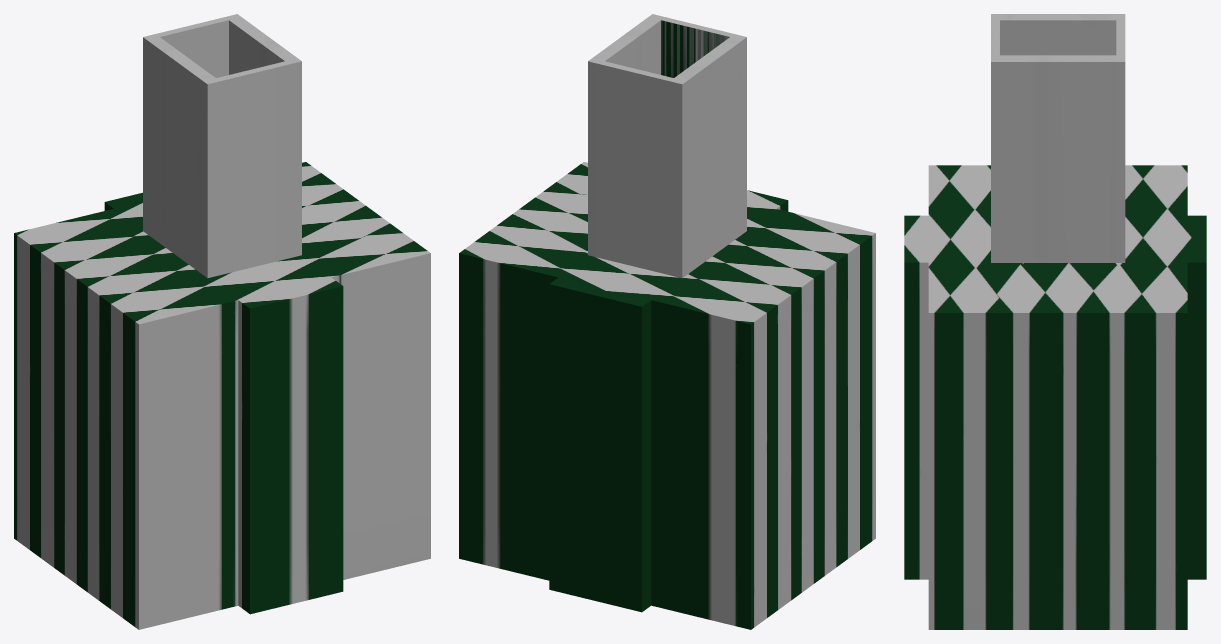
The model's file is Floor.fbx.
3 views of the same model, side by side, from view 1: azimuth 30°, elevation 25°; view 2: azimuth 150°, elevation 25°; view 3: azimuth 270°, elevation 25° (orthographic). The views are drawn at different scales.
Visible parts, largest first — view 1: Floor; view 2: Floor; view 3: Floor.
Boxes of the visible parts, x1,y1,x2,y2 form: Floor: (14, 14, 430, 629); Floor: (459, 14, 875, 629); Floor: (904, 14, 1206, 629).
Bounding box in the file's own units: 1 × 1.63 × 0.865.
1 material, 1 textured.
